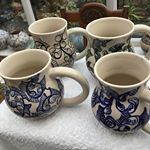cups: (1, 48, 90, 120), (87, 50, 150, 138)
